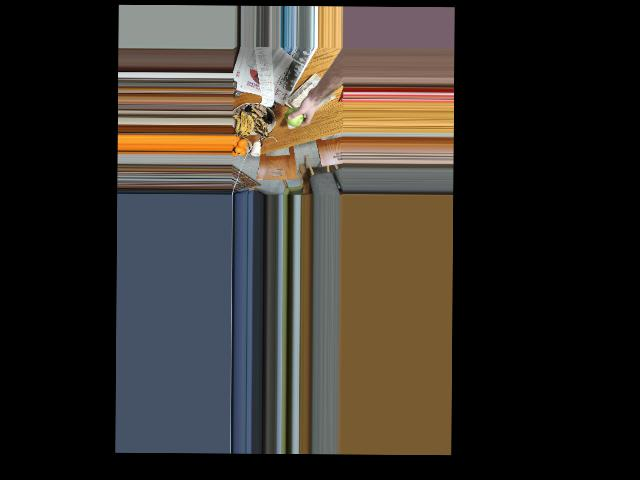apple: (285, 106, 305, 127)
